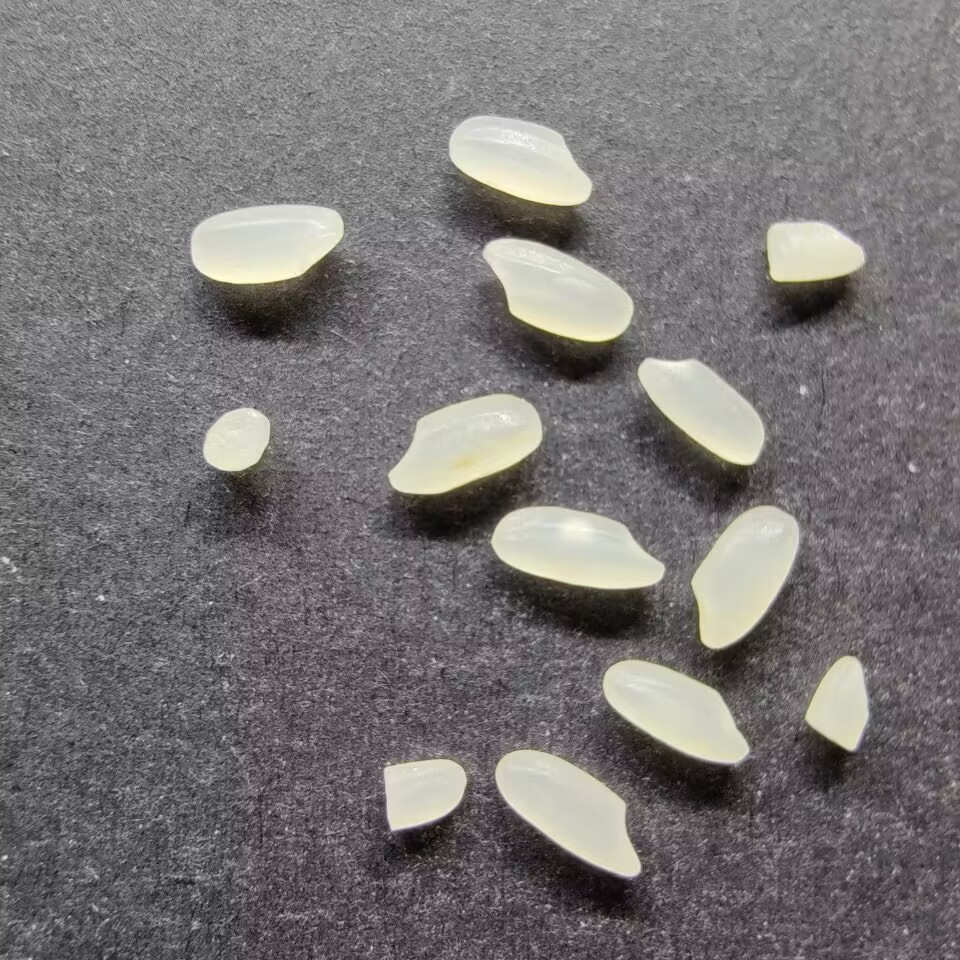broken: (801, 653, 870, 752), (379, 757, 468, 833), (763, 219, 867, 284), (198, 407, 273, 472)
rice: (492, 748, 645, 878), (690, 503, 802, 650), (481, 237, 636, 343), (387, 393, 544, 495), (601, 658, 749, 765), (491, 505, 668, 591), (635, 355, 768, 465), (447, 113, 592, 208), (188, 202, 344, 283)
